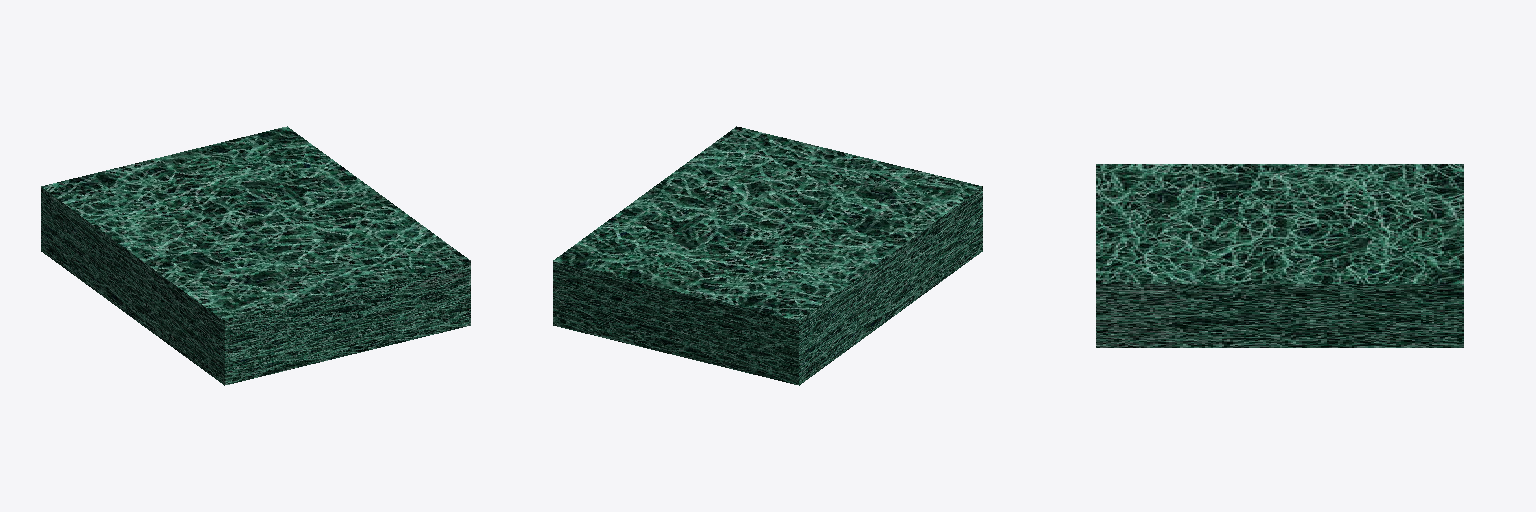
3 renders of one model, left to right at view 1: azimuth 30°, elevation 25°; view 2: azimuth 150°, elevation 25°; view 3: azimuth 270°, elevation 25°, orthographic.
Visible parts, largest first — view 1: Cubo.041_Cubo.015; view 2: Cubo.041_Cubo.015; view 3: Cubo.041_Cubo.015.
Part boxes in pixels (x1,y1,x2,y2): Cubo.041_Cubo.015: (41, 126, 470, 385); Cubo.041_Cubo.015: (553, 126, 982, 385); Cubo.041_Cubo.015: (1096, 164, 1463, 347).
Bounding box in the file's own units: 0.1288 × 0.0321 × 0.1665.
1 materials, 1 textured.